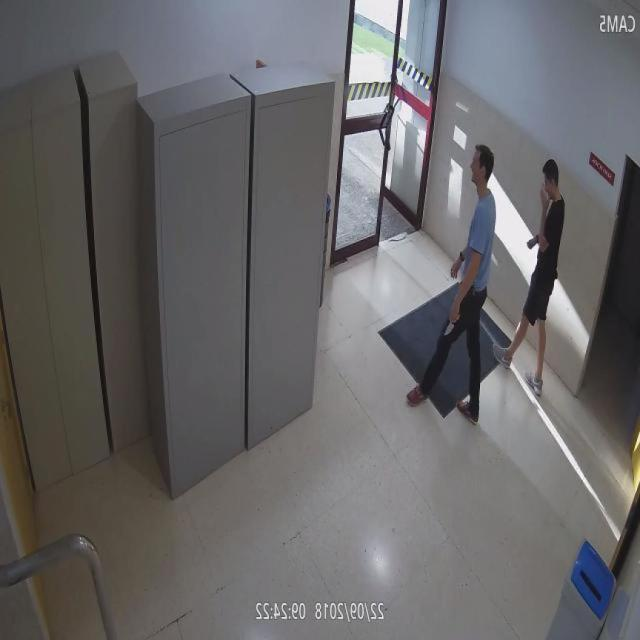pistol: (465, 279, 478, 302)
